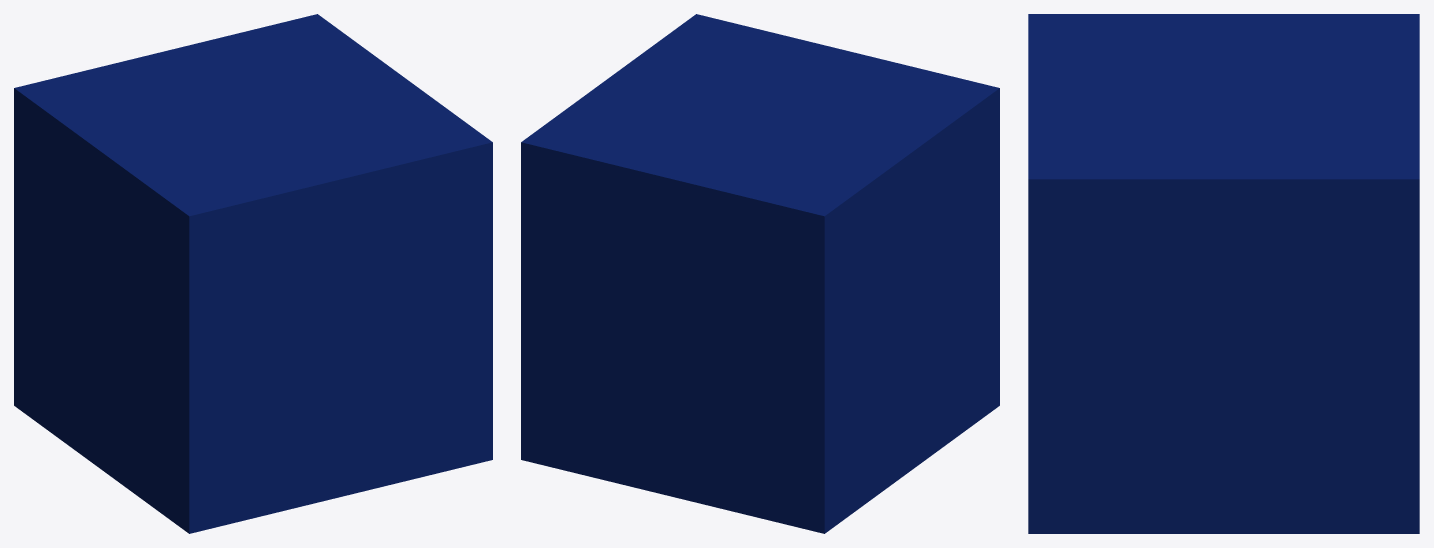
The model's file is cube_explosion.glb.
3 renders of one model, left to right at view 1: azimuth 30°, elevation 25°; view 2: azimuth 150°, elevation 25°; view 3: azimuth 270°, elevation 25°, orthographic. The views are drawn at different scales.
Parts seen in each view (by area): view 1: Cube, Cube_cell.023, Cube_cell.015, Cube_cell.093, Cube_cell.063, Cube_cell.051, Cube_cell.073, Cube_cell.019, Cube_cell.005, Cube_cell.007, Cube_cell.021, Cube_cell.025 (+32 smaller); view 2: Cube, Cube_cell.049, Cube_cell.060, Cube_cell.093, Cube_cell.001, Cube_cell.033, Cube_cell.067, Cube_cell.078, Cube_cell.054, Cube_cell.022, Cube_cell.048, Cube_cell.057 (+33 smaller); view 3: Cube, Cube_cell.038, Cube_cell.096, Cube_cell.020, Cube_cell.052, Cube_cell.039, Cube_cell.046, Cube_cell.040, Cube_cell.059, Cube_cell.029, Cube_cell.061, Cube_cell.057 (+18 smaller).
Part boxes in pixels (x1,y1,x2,y2): Cube: (14, 14, 492, 533); Cube_cell.023: (209, 246, 283, 370); Cube_cell.015: (284, 403, 362, 510); Cube_cell.093: (80, 202, 142, 310); Cube_cell.063: (152, 212, 251, 321); Cube_cell.051: (398, 202, 492, 319); Cube_cell.073: (356, 196, 472, 295); Cube_cell.019: (196, 160, 321, 253); Cube_cell.005: (160, 301, 283, 394); Cube_cell.007: (284, 224, 321, 370); Cube_cell.021: (184, 449, 245, 529); Cube_cell.025: (14, 105, 68, 196); Cube: (521, 14, 999, 533); Cube_cell.049: (567, 394, 694, 496); Cube_cell.060: (758, 333, 857, 480); Cube_cell.093: (890, 193, 953, 318); Cube_cell.001: (673, 178, 758, 286); Cube_cell.033: (540, 254, 615, 334); Cube_cell.067: (816, 236, 885, 370); Cube_cell.078: (689, 243, 816, 358); Cube_cell.054: (521, 163, 596, 256); Cube_cell.022: (768, 467, 867, 533); Cube_cell.048: (607, 109, 728, 149); Cube_cell.057: (521, 121, 610, 180); Cube: (1028, 14, 1419, 533); Cube_cell.038: (1175, 145, 1354, 251); Cube_cell.096: (1028, 148, 1174, 245); Cube_cell.020: (1346, 356, 1419, 481); Cube_cell.052: (1338, 460, 1419, 533); Cube_cell.039: (1126, 312, 1261, 422); Cube_cell.046: (1150, 180, 1199, 312); Cube_cell.040: (1053, 205, 1150, 289); Cube_cell.059: (1028, 246, 1101, 334); Cube_cell.029: (1297, 34, 1394, 77); Cube_cell.061: (1284, 236, 1419, 352); Cube_cell.057: (1334, 138, 1419, 201).
Bounding box in the file's own units: 2 × 2 × 2.
